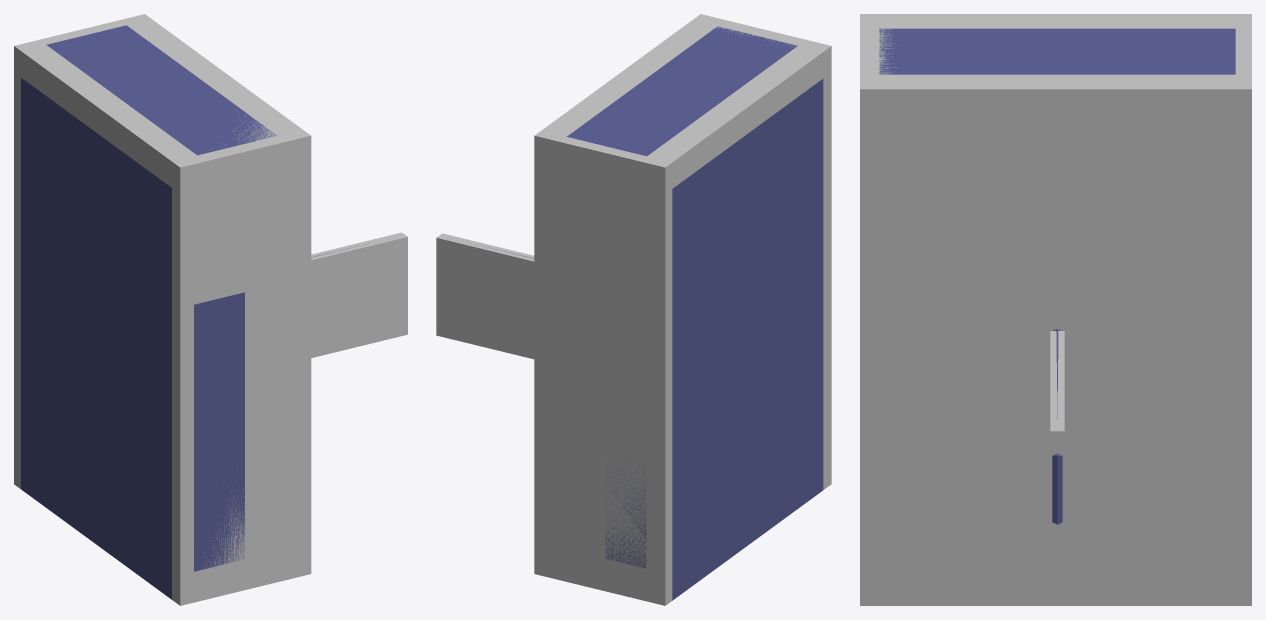
The model's file is SM_Ticket_Gate_02.fbx.
3 views of the same model, side by side, from view 1: azimuth 30°, elevation 25°; view 2: azimuth 150°, elevation 25°; view 3: azimuth 270°, elevation 25° (orthographic). The views are drawn at different scales.
Visible parts, largest first — view 1: SM_Ticket_Gate_02, SM_Ticket_Gate_02_ConvexHulls; view 2: SM_Ticket_Gate_02_ConvexHulls, SM_Ticket_Gate_02; view 3: SM_Ticket_Gate_02_ConvexHulls, SM_Ticket_Gate_02.
Part boxes in pixels (x1,y1,x2,y2): SM_Ticket_Gate_02: (21, 25, 368, 599); SM_Ticket_Gate_02_ConvexHulls: (14, 14, 407, 605); SM_Ticket_Gate_02_ConvexHulls: (436, 14, 831, 605); SM_Ticket_Gate_02: (477, 26, 823, 600); SM_Ticket_Gate_02_ConvexHulls: (860, 14, 1251, 605); SM_Ticket_Gate_02: (879, 28, 1235, 524).
Size of the model in its own units: 118 by 110 by 160.
